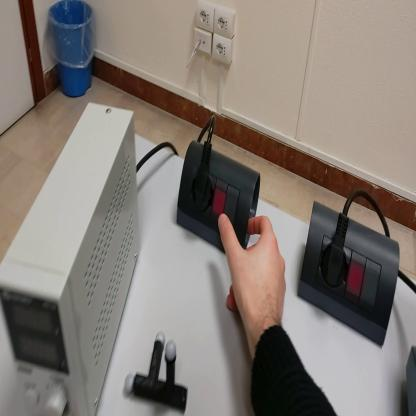hand: (218, 211, 288, 332)
oscilloscope: (405, 345, 416, 412)
power supply: (3, 94, 142, 415)
socket: (303, 206, 401, 349), (179, 139, 263, 252)
